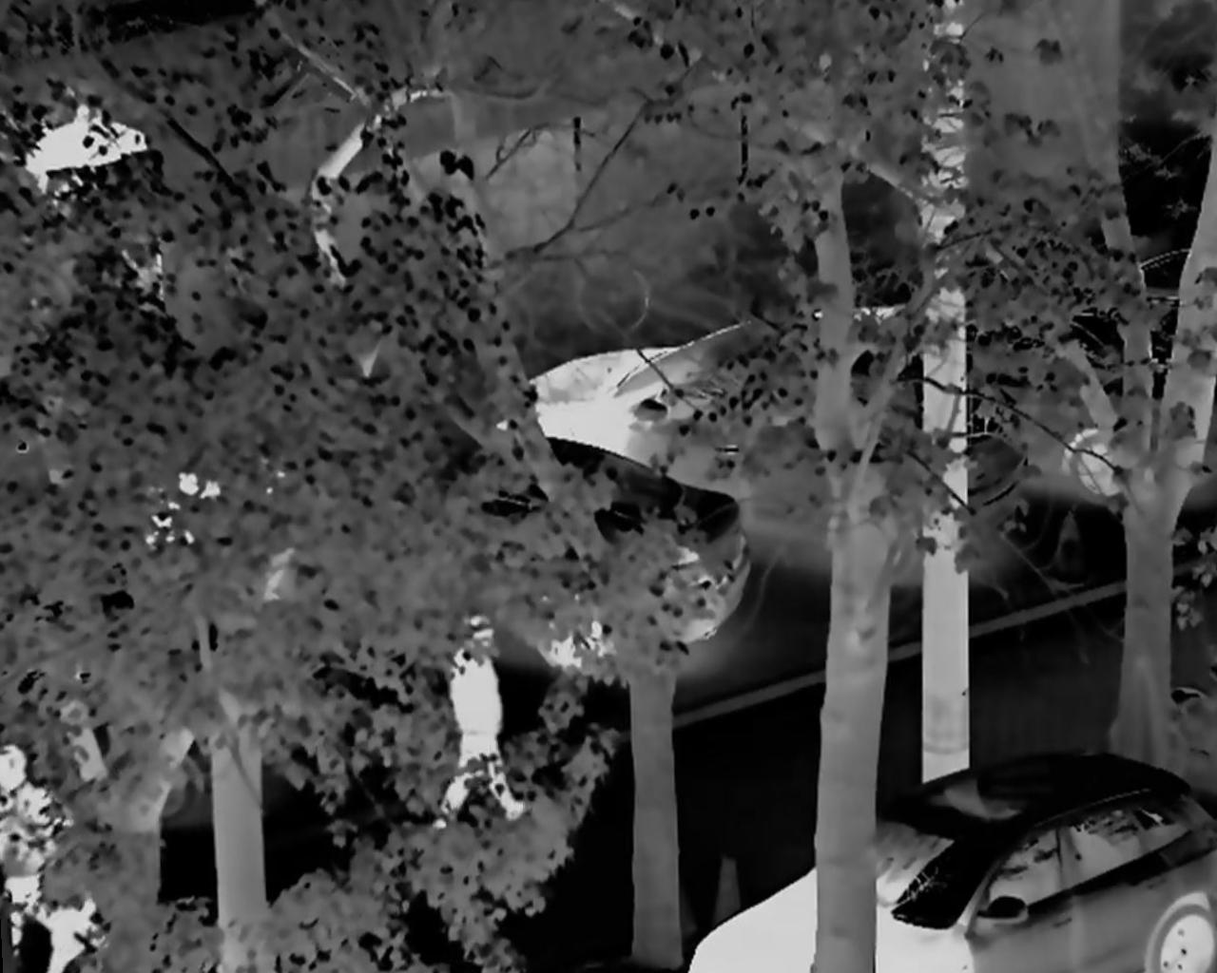person: (424, 616, 527, 831), (44, 781, 109, 973)
